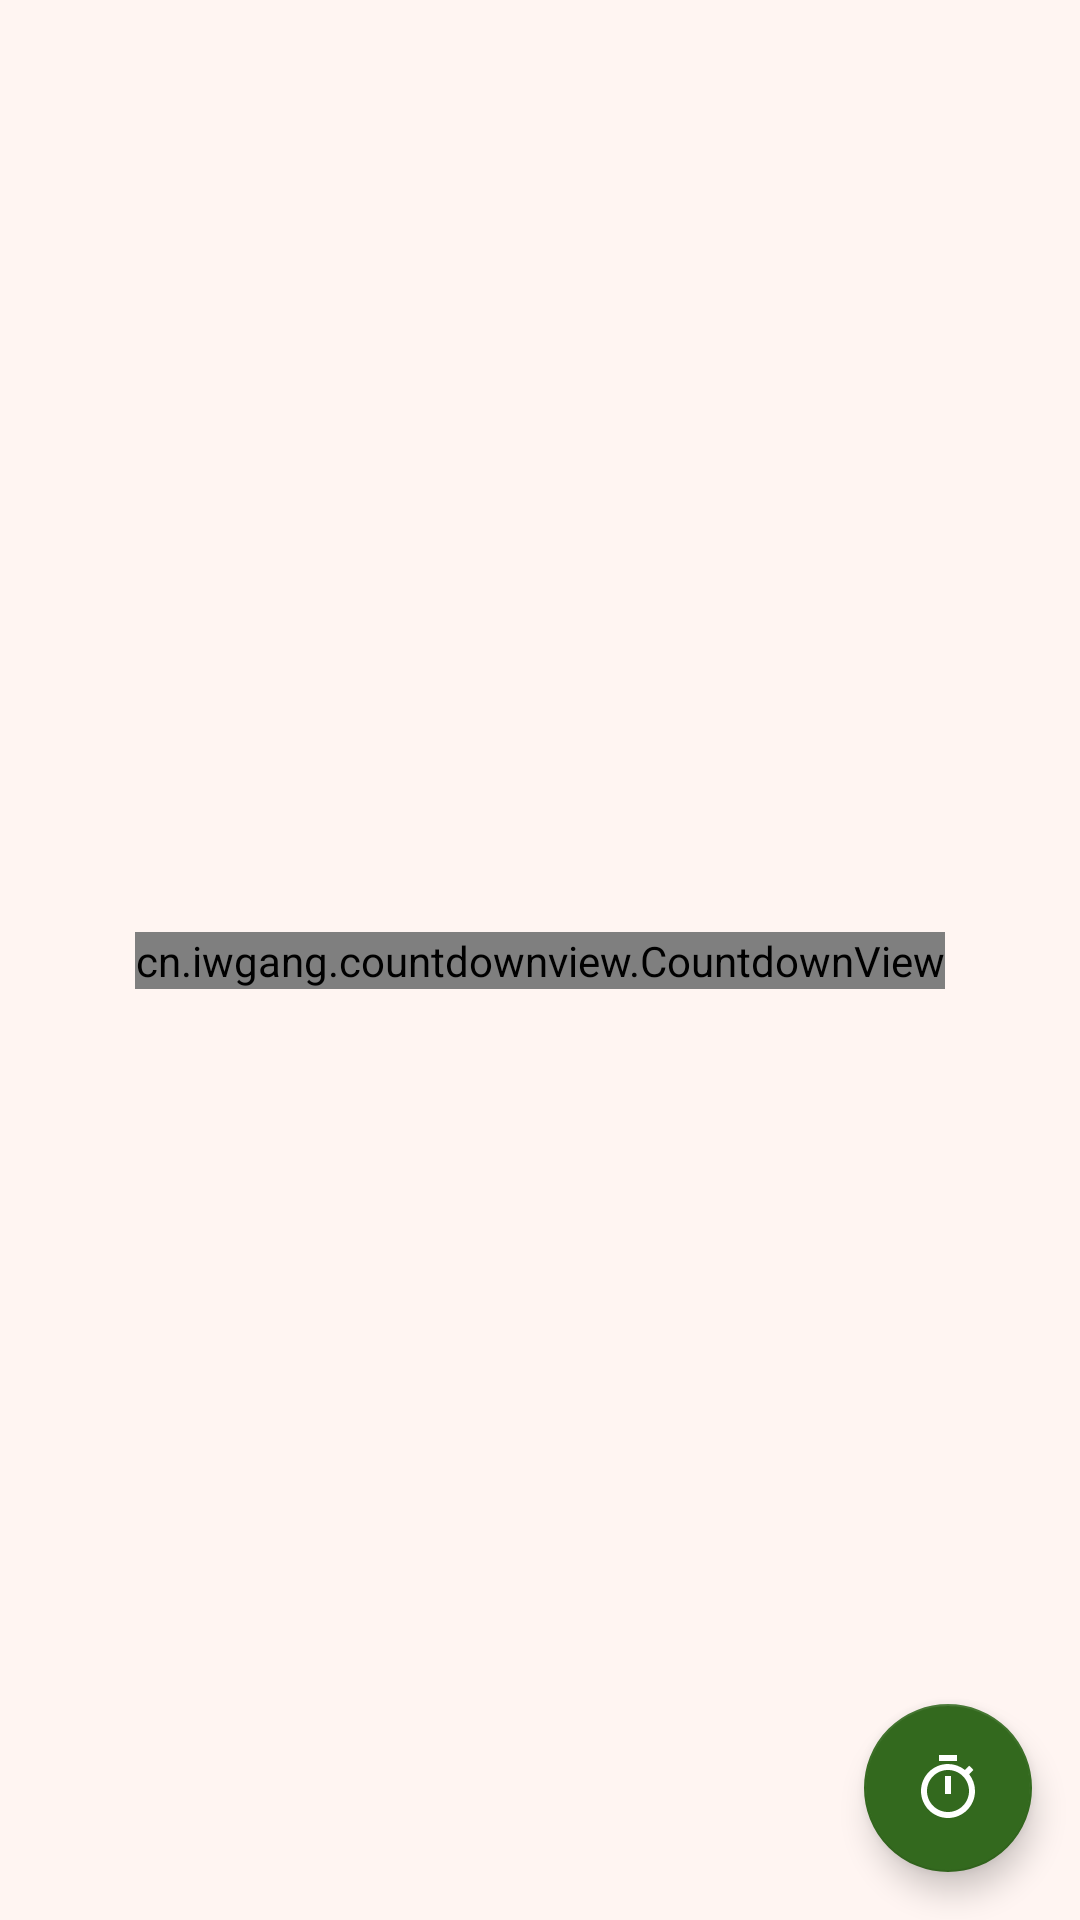

Icons on this 1080 x 1920 Android screen, each with its box as rect(x1, y1, x2, y2):
timer: rect(864, 1704, 1032, 1872)
